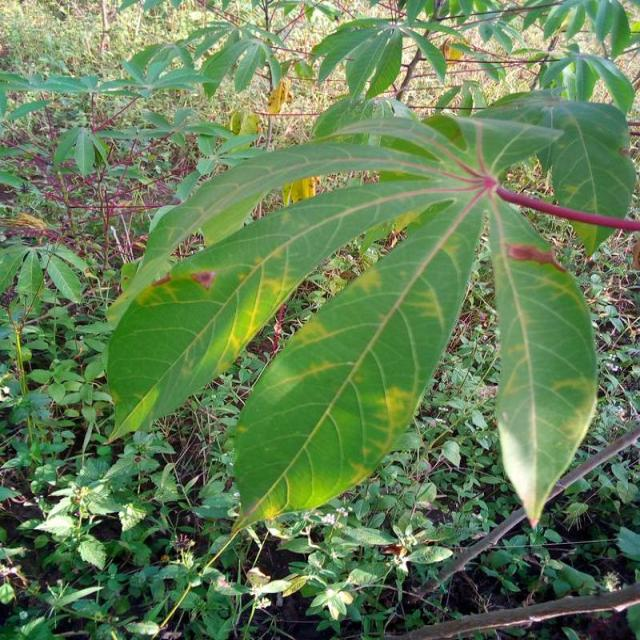cassava leaf: (104, 90, 632, 538), (486, 186, 598, 528)
